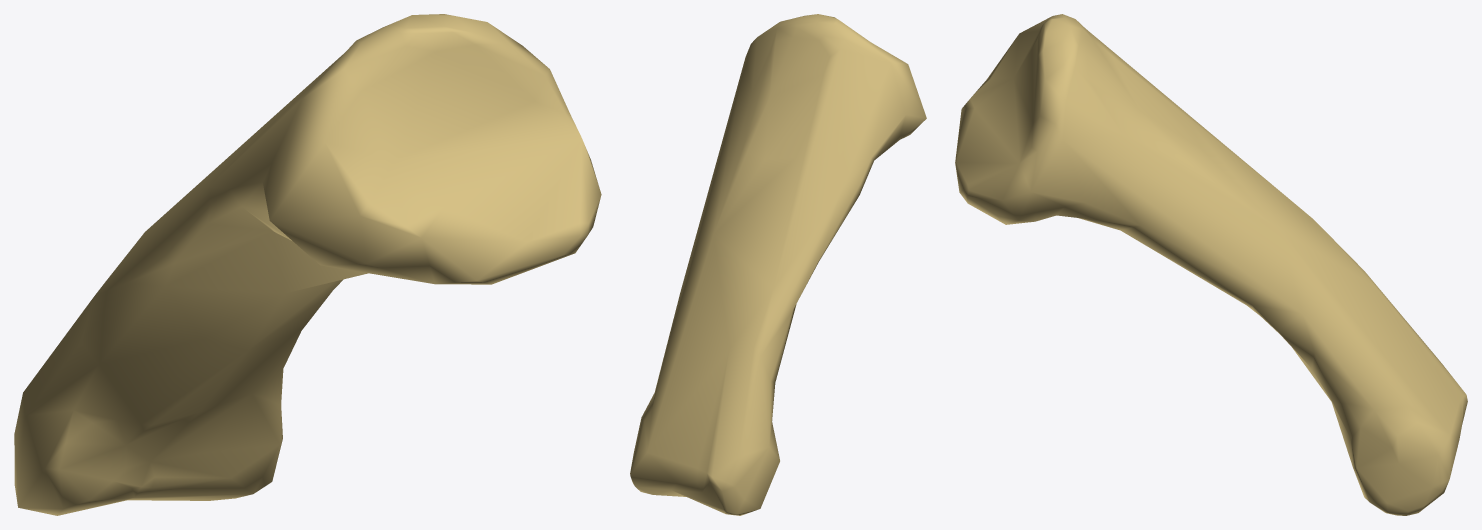
3 views of the same model, side by side, from view 1: azimuth 30°, elevation 25°; view 2: azimuth 150°, elevation 25°; view 3: azimuth 270°, elevation 25° (orthographic). The views are drawn at different scales.
Parts seen in each view (by area): view 1: 右侧第四指中节指骨; view 2: 右侧第四指中节指骨; view 3: 右侧第四指中节指骨.
Part boxes in pixels (bbox=[...]): 右侧第四指中节指骨: bbox=[14, 14, 601, 515]; 右侧第四指中节指骨: bbox=[630, 14, 926, 515]; 右侧第四指中节指骨: bbox=[955, 14, 1467, 515].
Bounding box in the file's own units: 0.0185 × 0.0369 × 0.0366.
